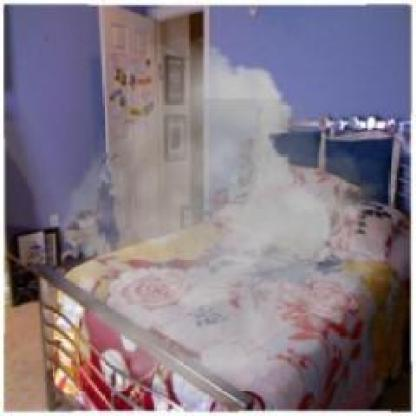Smoke: (39, 37, 398, 403)
